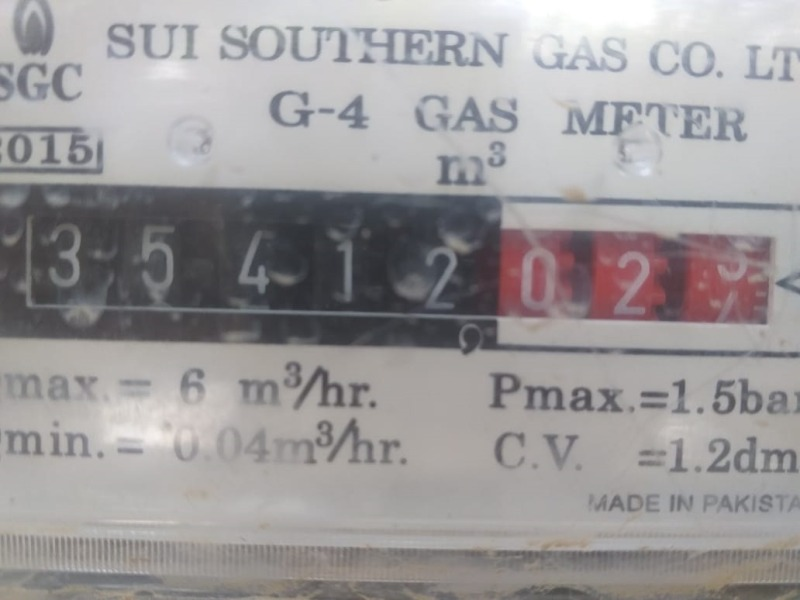ssgc: (6, 184, 778, 348)
